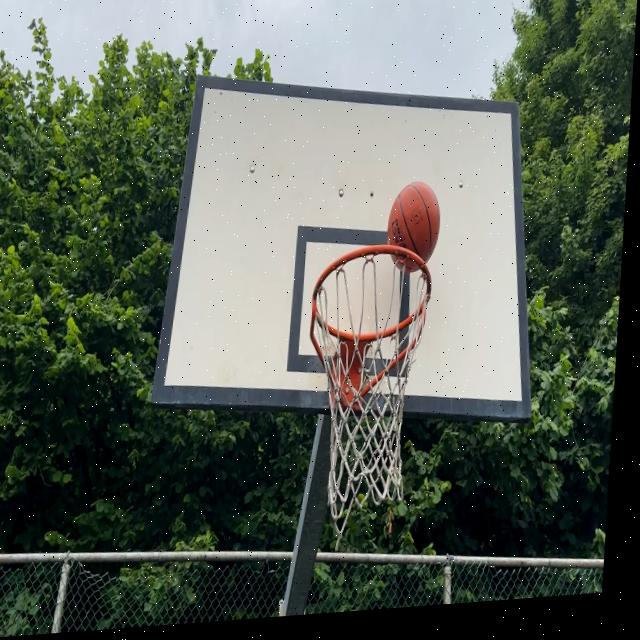rebound_hit: (384, 180, 443, 274)
